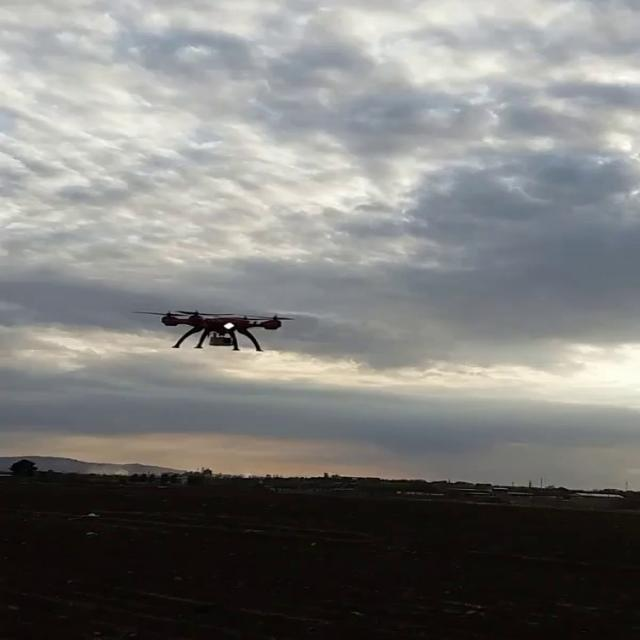drone: (131, 306, 301, 354)
